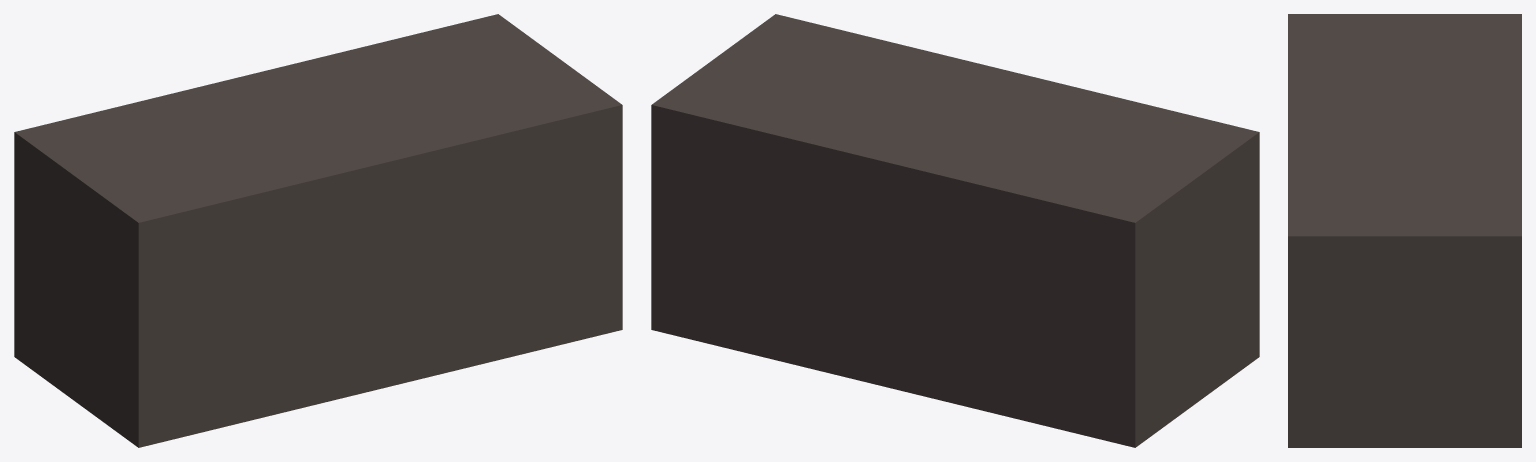
Rendered from Key94.obj.
The picture shows the model from 3 angles, left to right: view 1: azimuth 30°, elevation 25°; view 2: azimuth 150°, elevation 25°; view 3: azimuth 270°, elevation 25°; orthographic projection. The views are drawn at different scales.
Parts seen in each view (by area): view 1: Key94; view 2: Key94; view 3: Key94.
Part boxes in pixels (box(x1,y1,x2,y2)): Key94: box(14, 14, 622, 447); Key94: box(651, 14, 1259, 447); Key94: box(1288, 14, 1521, 447).
Bounding box in the file's own units: 9 × 4 × 4.
Materials: 1 (1 with a texture image).
